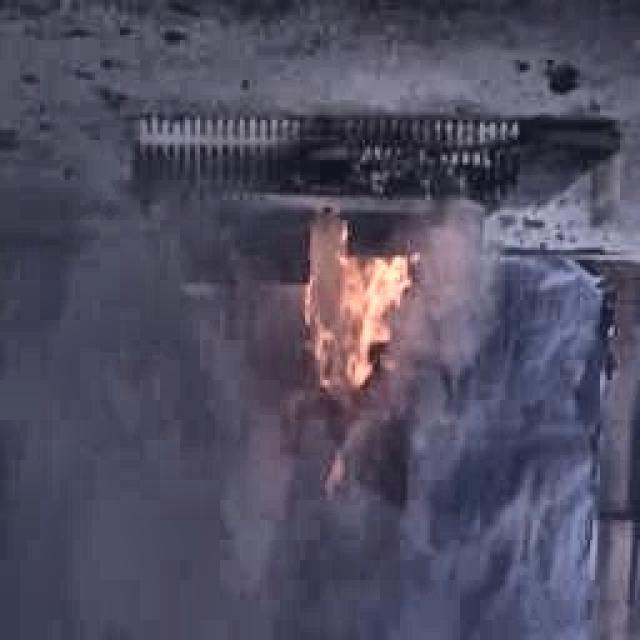fire: (304, 234, 416, 428)
